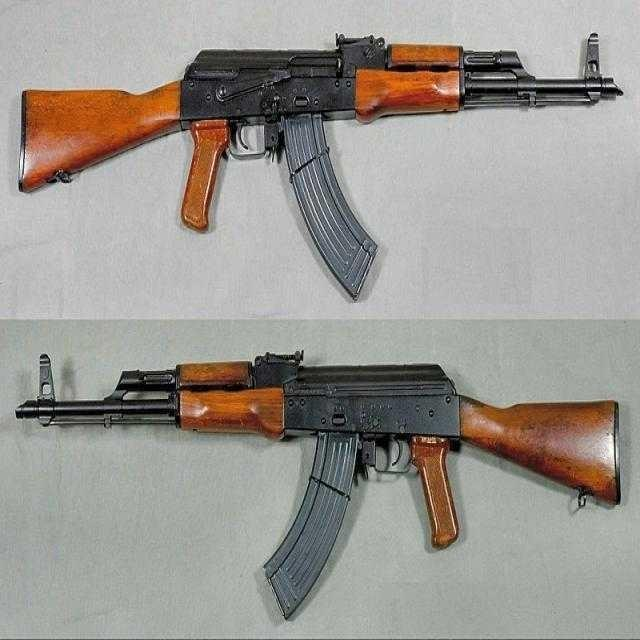ak: (15, 25, 628, 308)
